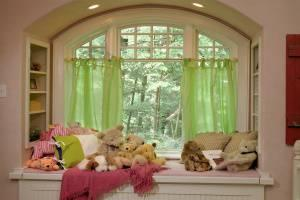window: (63, 20, 246, 157)
